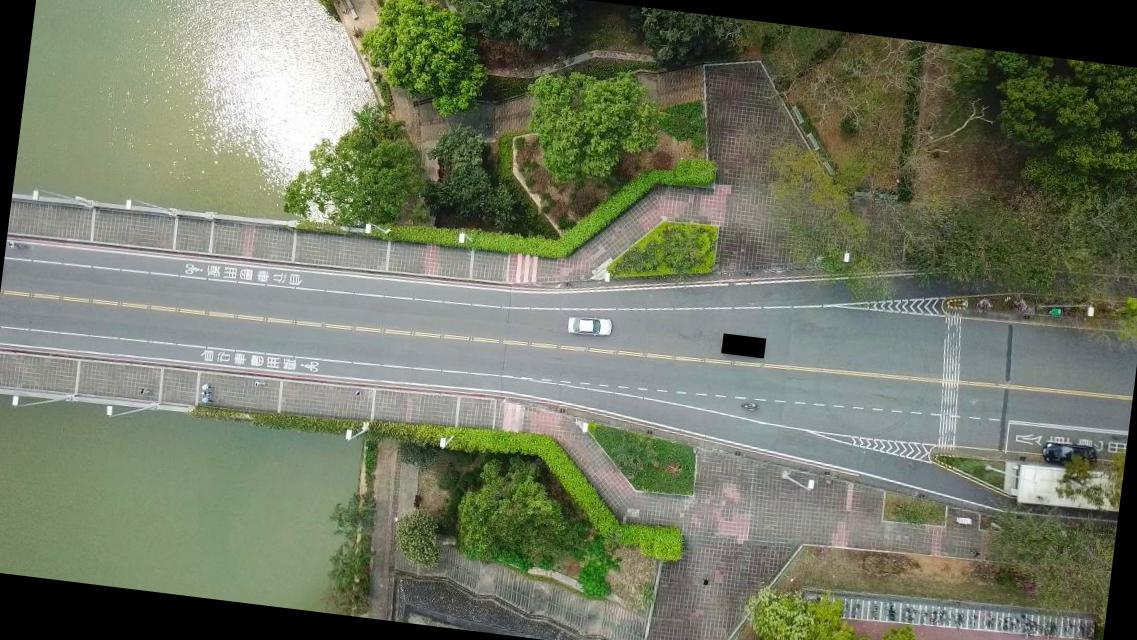vehicle: (1040, 438, 1099, 471), (566, 312, 612, 337)
